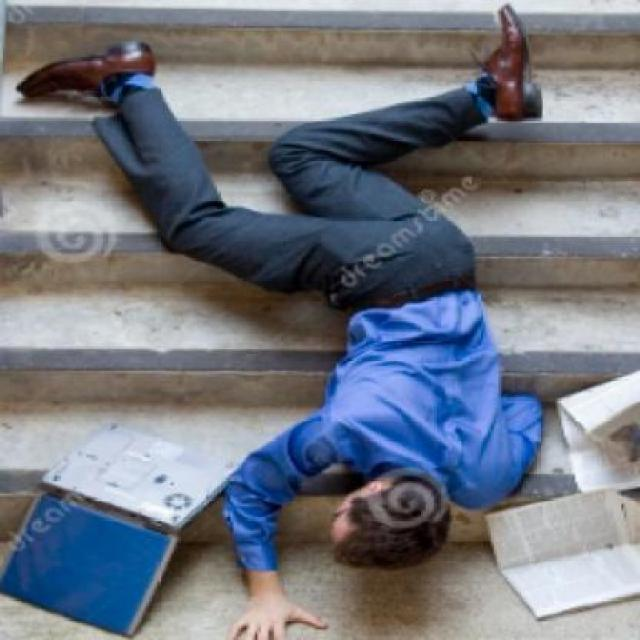fall: (16, 0, 553, 638)
